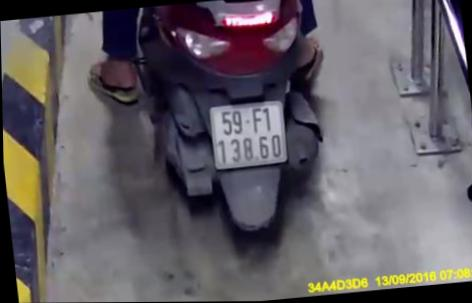LP: (207, 97, 290, 171)
